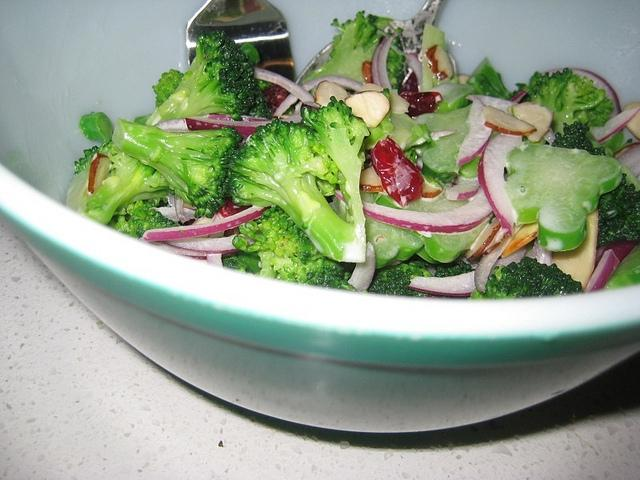broccoli: (227, 95, 371, 263), (110, 120, 244, 218), (506, 143, 623, 252), (146, 29, 272, 126), (233, 206, 357, 292), (297, 11, 408, 92), (85, 150, 177, 226), (515, 68, 614, 138), (466, 256, 584, 300), (366, 254, 452, 298), (597, 174, 640, 246), (107, 198, 180, 240), (466, 57, 526, 100), (552, 120, 607, 156), (603, 245, 640, 290), (152, 69, 184, 109), (221, 250, 261, 274), (74, 146, 99, 176), (435, 260, 475, 278), (380, 88, 394, 132), (239, 42, 260, 66)
onion: (334, 187, 494, 233), (404, 246, 528, 296), (142, 205, 271, 242), (478, 133, 522, 236), (541, 68, 621, 120), (272, 75, 364, 117), (473, 224, 524, 294), (185, 115, 302, 144), (253, 66, 320, 110), (457, 95, 492, 167), (158, 234, 255, 254), (590, 107, 640, 144), (583, 249, 619, 293), (138, 238, 207, 260), (593, 239, 637, 273), (348, 242, 376, 291), (378, 32, 399, 90), (466, 95, 520, 115), (207, 214, 224, 269), (445, 176, 481, 200), (616, 144, 640, 177), (372, 38, 388, 87), (404, 52, 422, 92), (529, 240, 553, 266), (154, 118, 190, 133)
radish: (362, 187, 493, 233), (407, 247, 528, 296), (478, 132, 522, 236), (144, 206, 272, 241), (474, 224, 524, 294), (457, 95, 492, 166), (254, 68, 315, 103), (186, 116, 272, 139), (590, 107, 640, 144), (155, 234, 238, 254), (591, 240, 638, 275), (348, 242, 376, 292), (377, 32, 398, 90)
